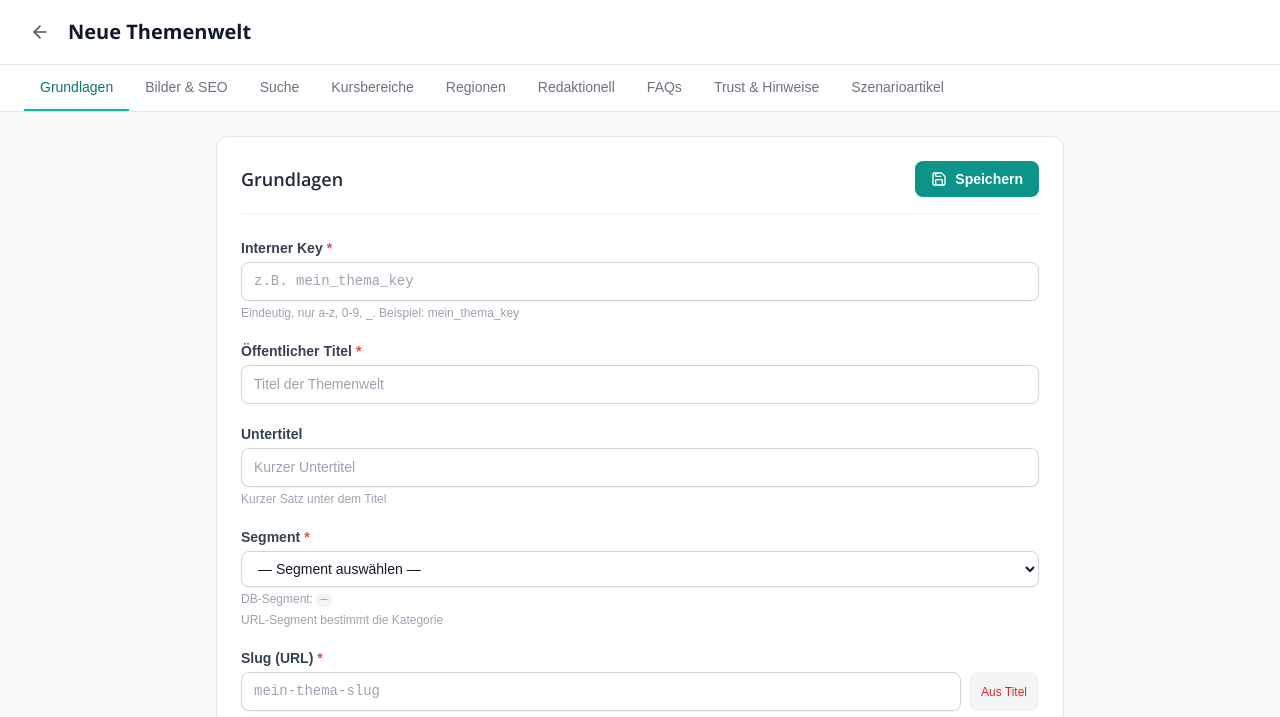
Test: Segment-Mapping: Gültige Werte via Component › beruflich → professionell wird angezeigt
The image size is (1280, 717).
Select "Beruf & Karriere" in the dropdown. click: (640, 569)
box: [241,551,1039,587]
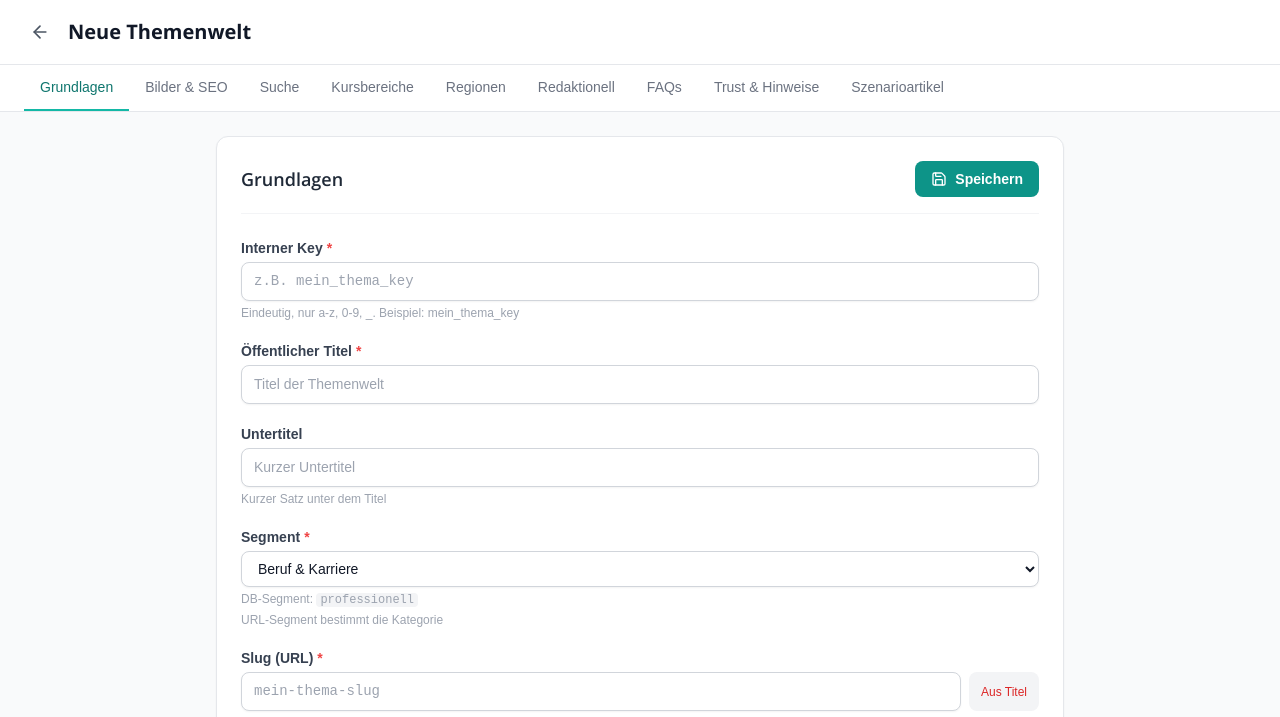
Expected: the text "DB-Segment: professionell" is shown, [241,592,418,607]
Expected: the text "DB-Segment:" no longer shows "—"
